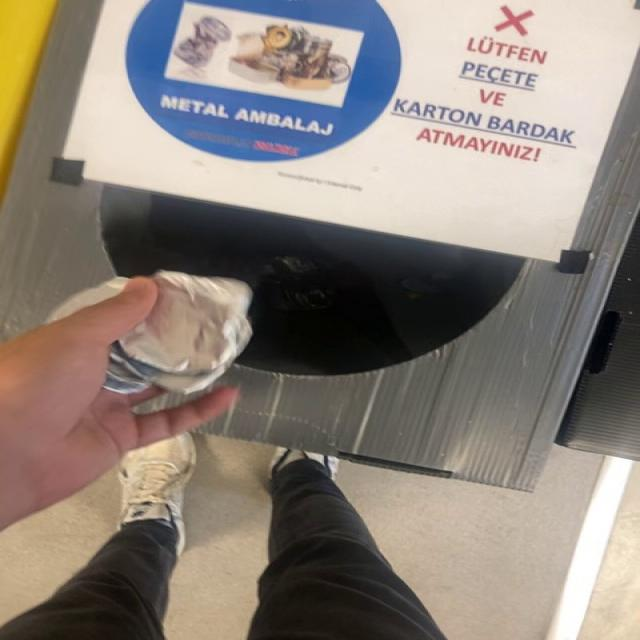metal: (104, 271, 252, 394), (45, 277, 128, 322)
